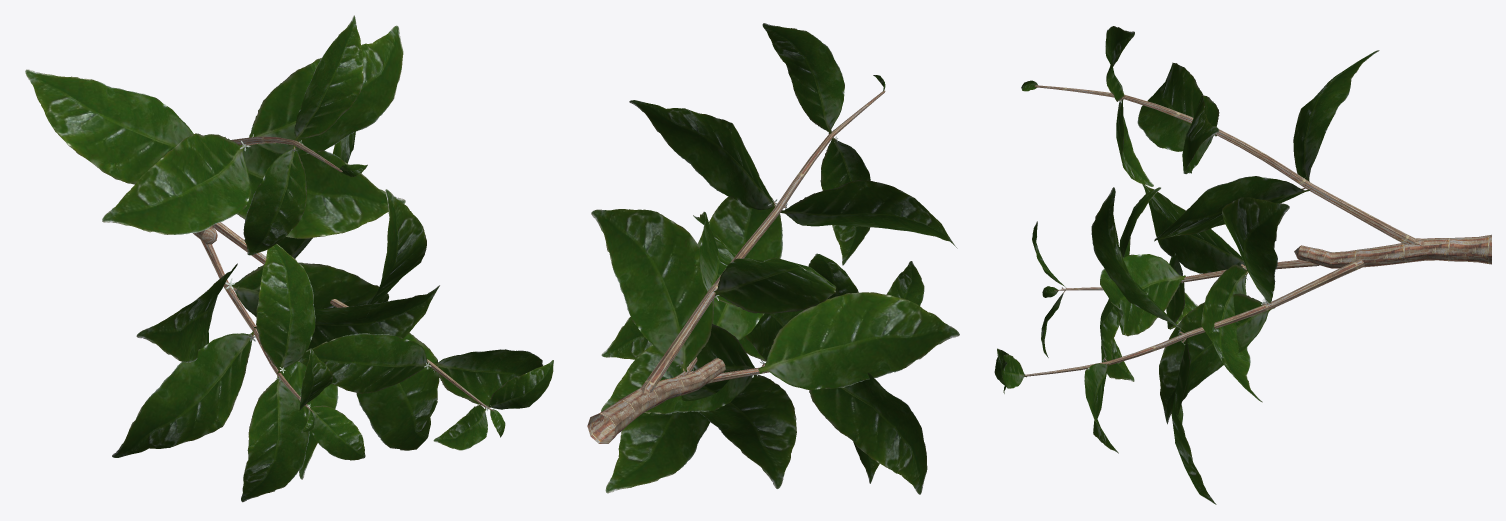
The picture shows the model from 3 angles, left to right: view 1: azimuth 30°, elevation 25°; view 2: azimuth 150°, elevation 25°; view 3: azimuth 270°, elevation 25°; orthographic projection. The views are drawn at different scales.
Parts seen in each view (by area): view 1: TR08y; view 2: TR08y; view 3: TR08y.
Boxes of the visible parts, x1,y1,x2,y2 form: TR08y: (25, 15, 553, 502); TR08y: (587, 23, 959, 494); TR08y: (994, 26, 1491, 504).
Bounding box in the file's own units: 4.98 × 5.81 × 5.96.
3 materials, 3 textured.
